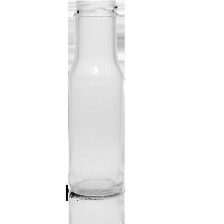bottle: (63, 0, 127, 200)
